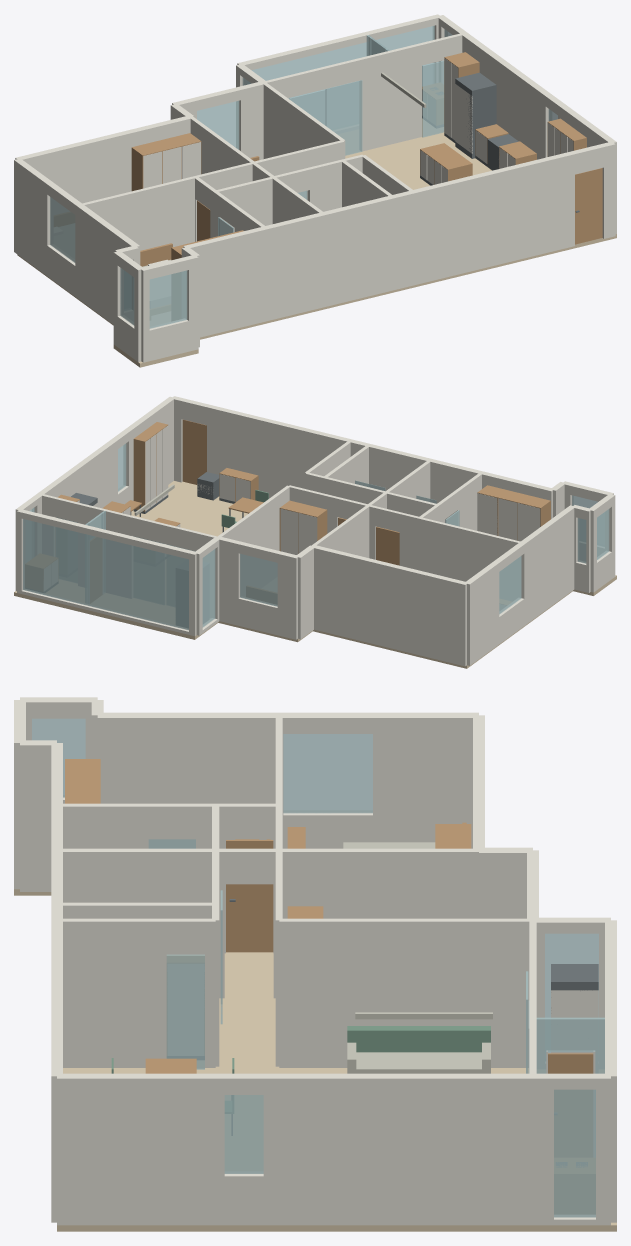
Rendered from 157furnish_R2_gas.glb.
3 views of the same model, one above another, from view 1: azimuth 30°, elevation 25°; view 2: azimuth 150°, elevation 25°; view 3: azimuth 270°, elevation 25° (orthographic). The views are drawn at different scales.
Parts seen in each view (by area): view 1: south_main_0, north_A_end, A_south_0, balcony_s_1, east_1, west_AB_0, west_AB_end, C_east_end, floor_0, balcony_glass, living_balcony_fixed_panel, north_balcony_0_lintel (+48 smaller); view 2: north_A_end, balcony_glass, south_main_0, A_south_0, west_AB_0, floor_0, east_1, C_east_end, west_AB_end, balcony_s_1, floor_2, north_C_end (+59 smaller); view 3: east_1, C_east_end, east_0, west_AB_0, store_e_0, A_C_end, floor_0, west_AB_end, bath_AB_end, A_window, balcony_e_window, B_step_e_end (+45 smaller).
Boxes of the visible parts, <box> form: south_main_0: <box>183,151,573,337</box>; north_A_end: <box>15,115,192,214</box>; A_south_0: <box>79,171,217,250</box>; balcony_s_1: <box>361,43,420,151</box>; east_1: <box>454,28,551,159</box>; west_AB_0: <box>75,203,140,324</box>; west_AB_end: <box>14,158,53,275</box>; C_east_end: <box>262,82,345,158</box>; floor_0: <box>17,144,616,339</box>; balcony_glass: <box>252,25,434,98</box>; living_balcony_fixed_panel: <box>325,80,362,155</box>; north_balcony_0_lintel: <box>244,15,436,70</box>; north_A_end: <box>313,545,468,666</box>; balcony_glass: <box>23,519,188,630</box>; south_main_0: <box>208,405,554,524</box>; A_south_0: <box>400,512,521,600</box>; west_AB_0: <box>519,505,574,625</box>; floor_0: <box>131,481,572,668</box>; east_1: <box>32,438,117,555</box>; C_east_end: <box>217,485,289,596</box>; west_AB_end: <box>466,561,499,665</box>; balcony_s_1: <box>78,503,132,597</box>; floor_2: <box>14,581,218,639</box>; north_C_end: <box>217,537,241,625</box>; east_1: <box>263,1073,553,1225</box>; C_east_end: <box>279,918,532,1067</box>; east_0: <box>57,1073,224,1225</box>; west_AB_0: <box>97,712,283,848</box>; store_e_0: <box>58,918,164,1067</box>; A_C_end: <box>275,848,478,918</box>; floor_0: <box>57,952,478,1231</box>; west_AB_end: <box>373,712,478,848</box>; bath_AB_end: <box>57,848,215,902</box>; A_window: <box>283,734,372,813</box>; balcony_e_window: <box>554,1089,595,1217</box>; B_step_e_end: <box>20,740,56,891</box>.
Bounding box in the file's own units: 15.08 × 2.82 × 10.07.
